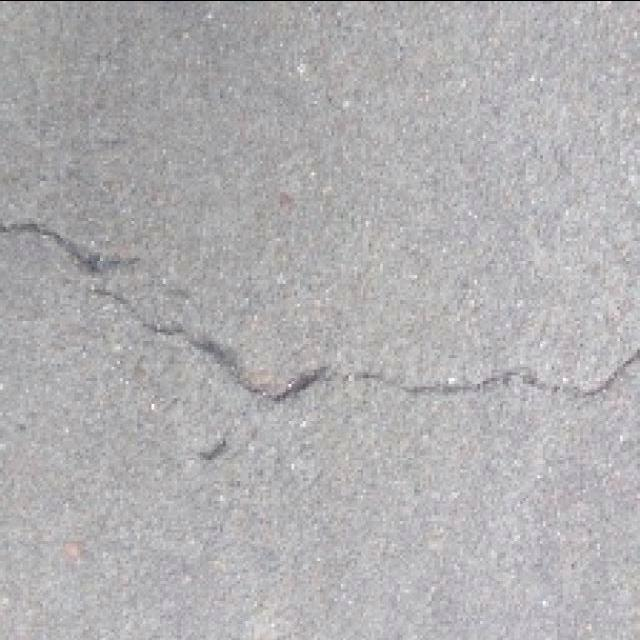SurfaceCrack: (2, 206, 640, 438)
